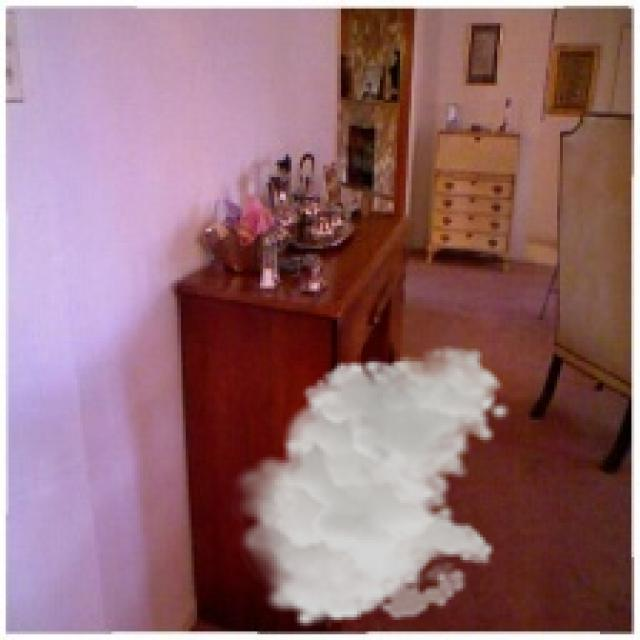Smoke: (228, 346, 512, 628)
